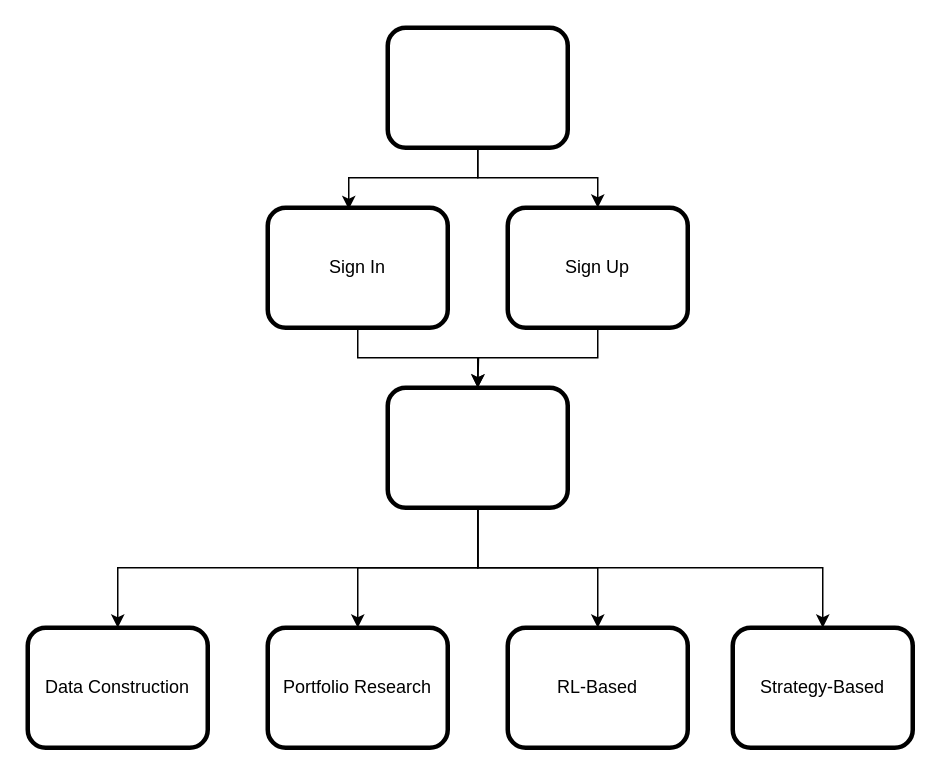
The diagram is 941 pixels wide and 776 high, and some of its shapes have lost their labels. Each missing label, with the centre of its shape:
"Dashboard" goes at [477,447].
"Starter Page" goes at [477,87].
